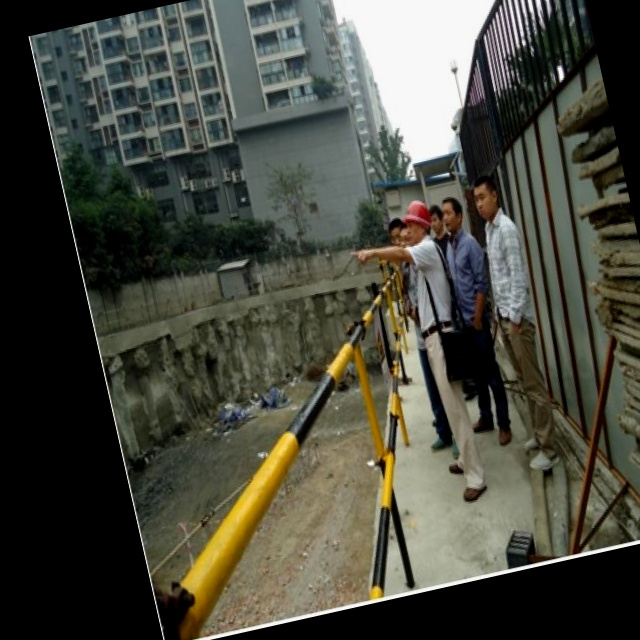Con_Casco: (399, 197, 436, 243)
Sin_Casco_Mascarrilla: (467, 170, 504, 224)
